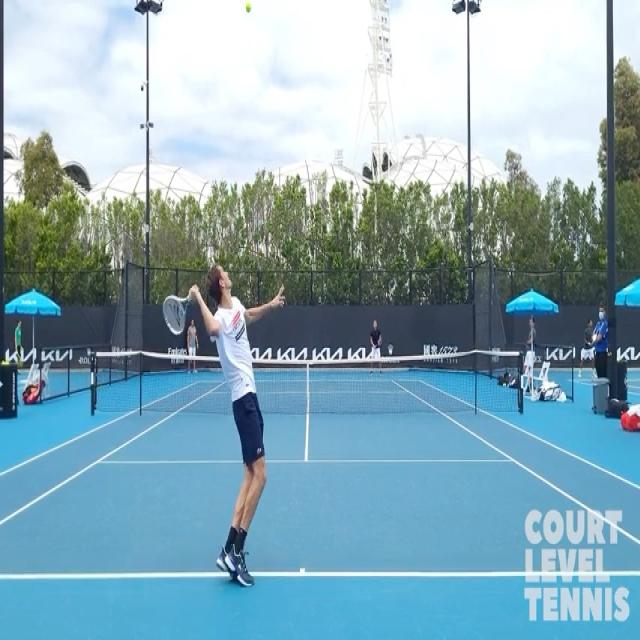serve_hit: (165, 172, 289, 600)
